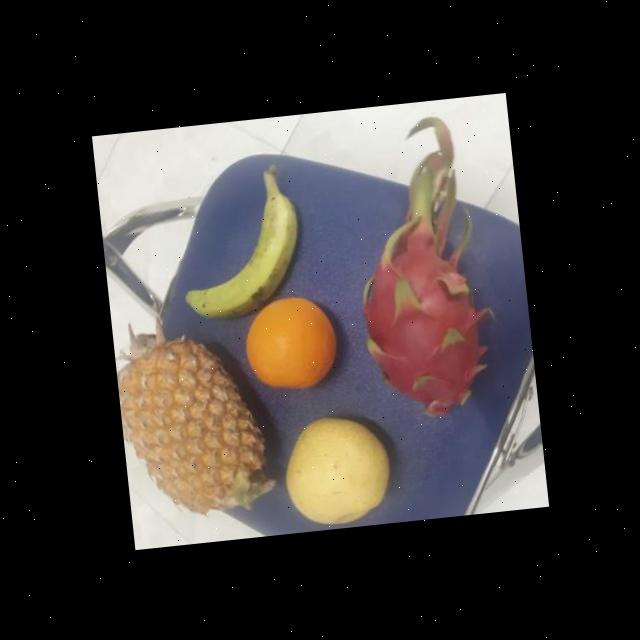banana: (175, 182, 308, 327)
guava: (284, 409, 396, 532)
pear: (242, 292, 342, 396)
pineapple: (115, 330, 282, 522)
pitaya: (352, 218, 498, 438)
